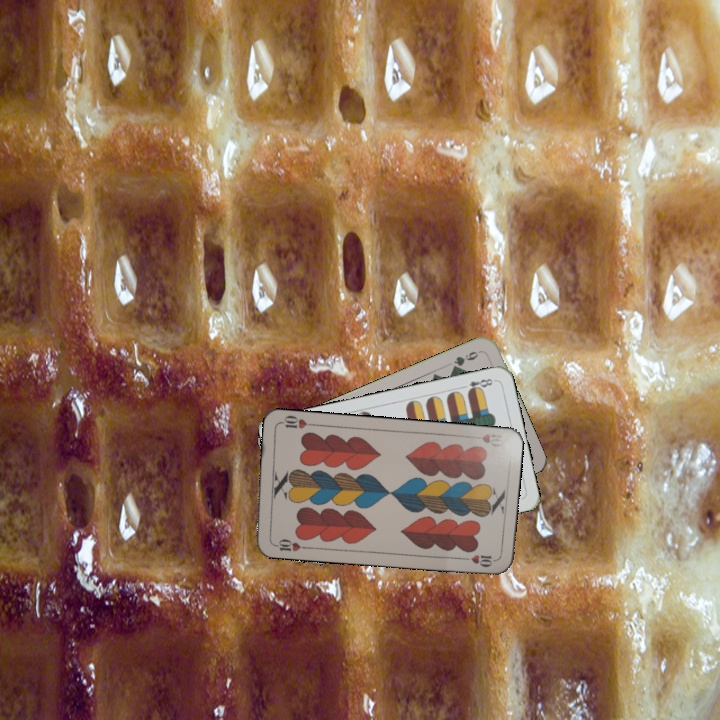E8: (457, 374, 497, 396)
G9: (448, 346, 484, 372)
H10: (269, 535, 309, 554), (478, 430, 507, 450)
